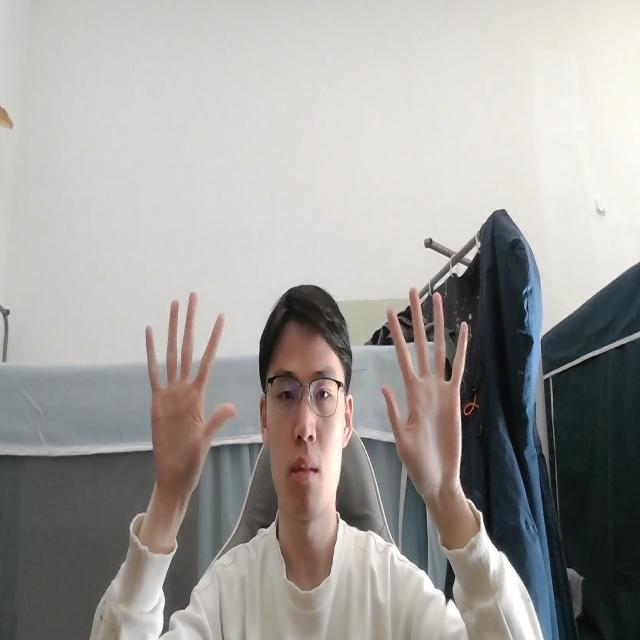five: (142, 286, 237, 512), (380, 280, 470, 508)
